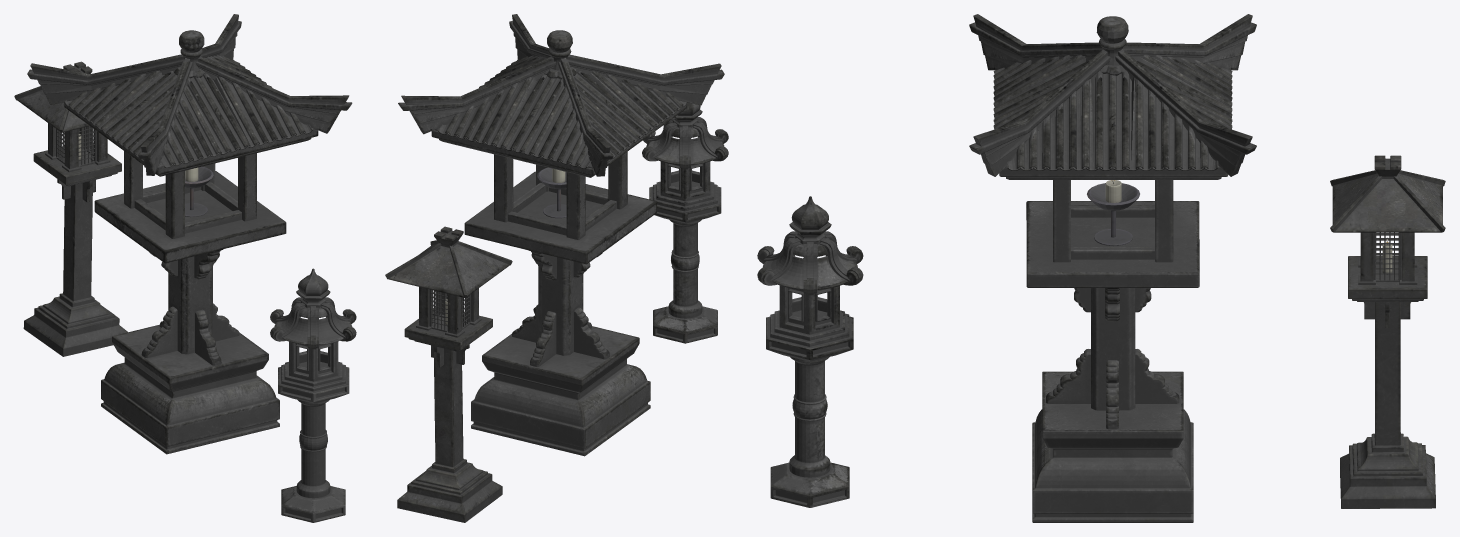
Rendered from Stone Lamp.fbx.
3 views of the same model, side by side, from view 1: azimuth 30°, elevation 25°; view 2: azimuth 150°, elevation 25°; view 3: azimuth 270°, elevation 25° (orthographic). The views are drawn at different scales.
Visible parts, largest first — view 1: CTI Stone Lamp 01.Shape, CTI Stone Lamp 02.Shape, CTI Stone Lamp 03.Shape; view 2: CTI Stone Lamp 01.Shape, CTI Stone Lamp 02.Shape, CTI Stone Lamp 03.Shape; view 3: CTI Stone Lamp 01.Shape, CTI Stone Lamp 02.Shape, CTI Stone Lamp 03.Shape.
Boxes of the visible parts, x1=… form: CTI Stone Lamp 01.Shape: x1=27, y1=14, x2=352, y2=454; CTI Stone Lamp 02.Shape: x1=14, y1=61, x2=127, y2=356; CTI Stone Lamp 03.Shape: x1=270, y1=268, x2=356, y2=522; CTI Stone Lamp 01.Shape: x1=398, y1=14, x2=724, y2=456; CTI Stone Lamp 02.Shape: x1=385, y1=226, x2=512, y2=522; CTI Stone Lamp 03.Shape: x1=642, y1=102, x2=728, y2=343; CTI Stone Lamp 01.Shape: x1=969, y1=14, x2=1256, y2=522; CTI Stone Lamp 02.Shape: x1=1330, y1=155, x2=1445, y2=508; CTI Stone Lamp 03.Shape: x1=757, y1=196, x2=863, y2=507.
Bounding box in the file's own units: 144 × 246 × 326.
Materials: 2 (2 with a texture image).
